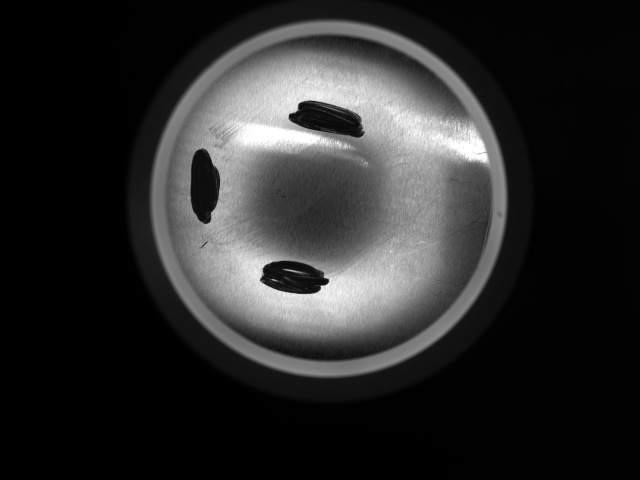zang_wu: (287, 99, 365, 139), (258, 258, 334, 295), (189, 145, 220, 224)
